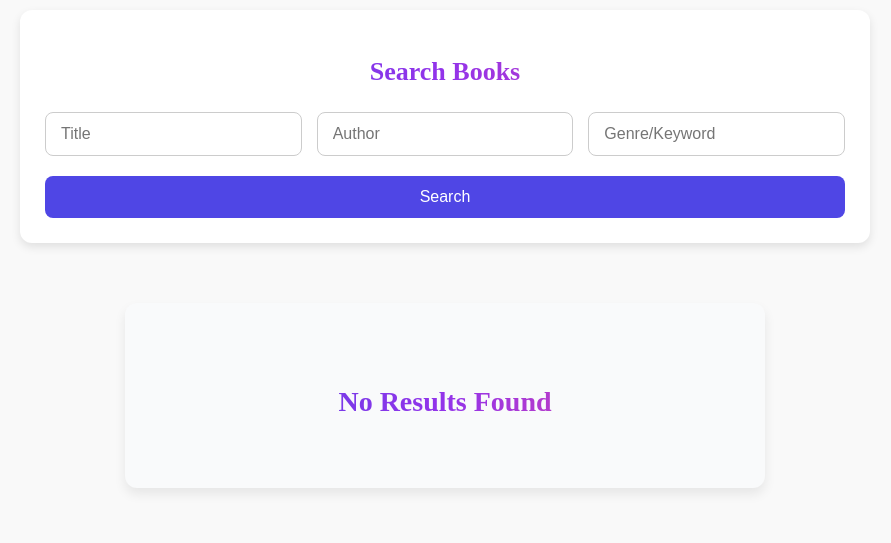
Test: SearchForm Component › all fields are empty
Click the button "Search".
click(445, 197)  # box x1=45 y1=176 x2=845 y2=218
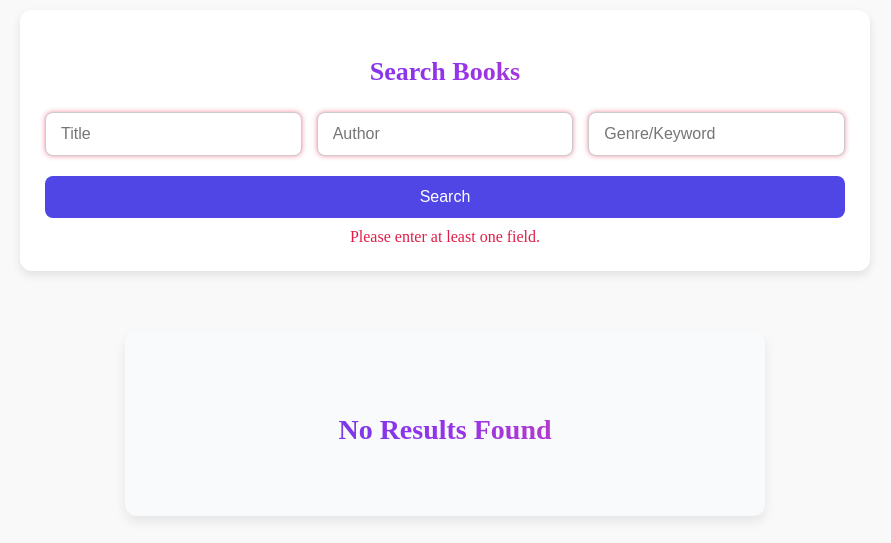
expect the message reads "Please enter at least one field.": met, box x1=350 y1=228 x2=540 y2=245
